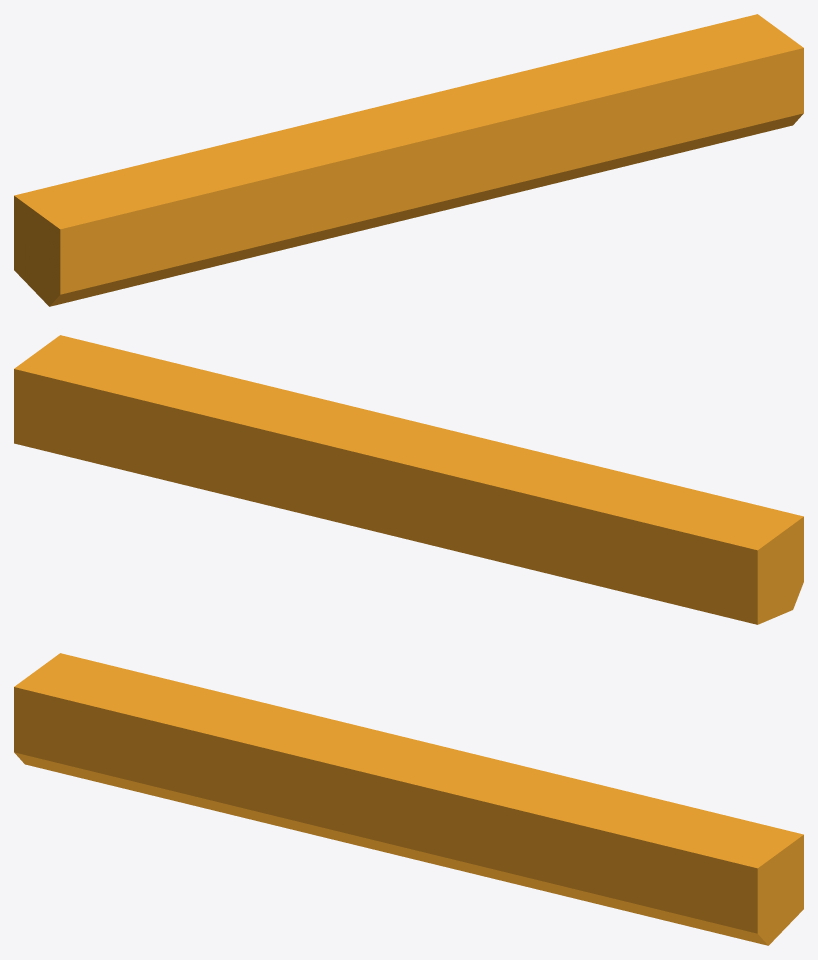
File: SM_Battlement_Trim_A_Fantasy.fbx
The picture shows the model from 3 angles, top to bottom: view 1: azimuth 30°, elevation 25°; view 2: azimuth 150°, elevation 25°; view 3: azimuth 330°, elevation 25°; orthographic projection.
Visible parts, largest first — view 1: SM_Battlement_Trim_A_Fantasy; view 2: SM_Battlement_Trim_A_Fantasy; view 3: SM_Battlement_Trim_A_Fantasy.
Boxes of the visible parts, left/top/right/bottom form: SM_Battlement_Trim_A_Fantasy: left=14, top=14, right=803, bottom=306; SM_Battlement_Trim_A_Fantasy: left=14, top=335, right=803, bottom=624; SM_Battlement_Trim_A_Fantasy: left=14, top=653, right=803, bottom=945.
Bounding box in the file's own units: 3 × 0.3294 × 0.3232.
